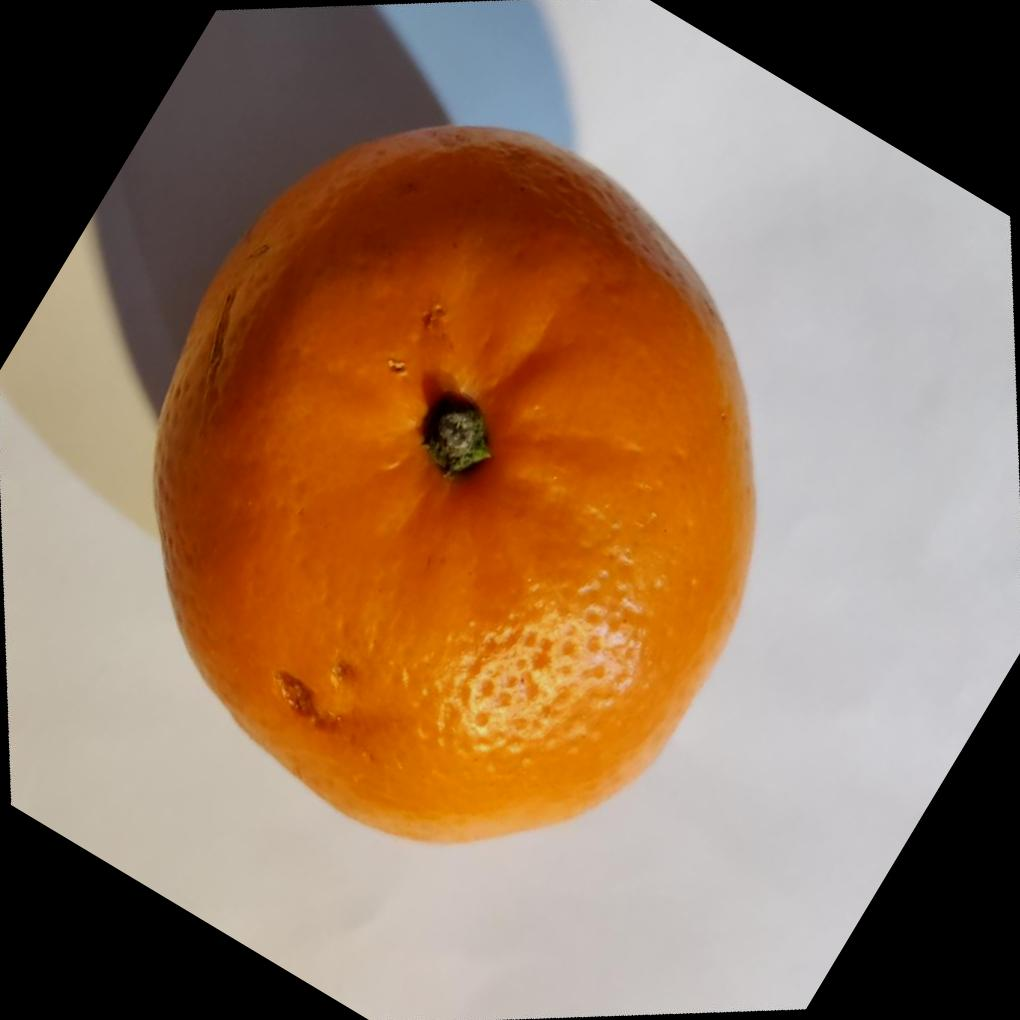FreshGuava: (152, 123, 761, 847)
